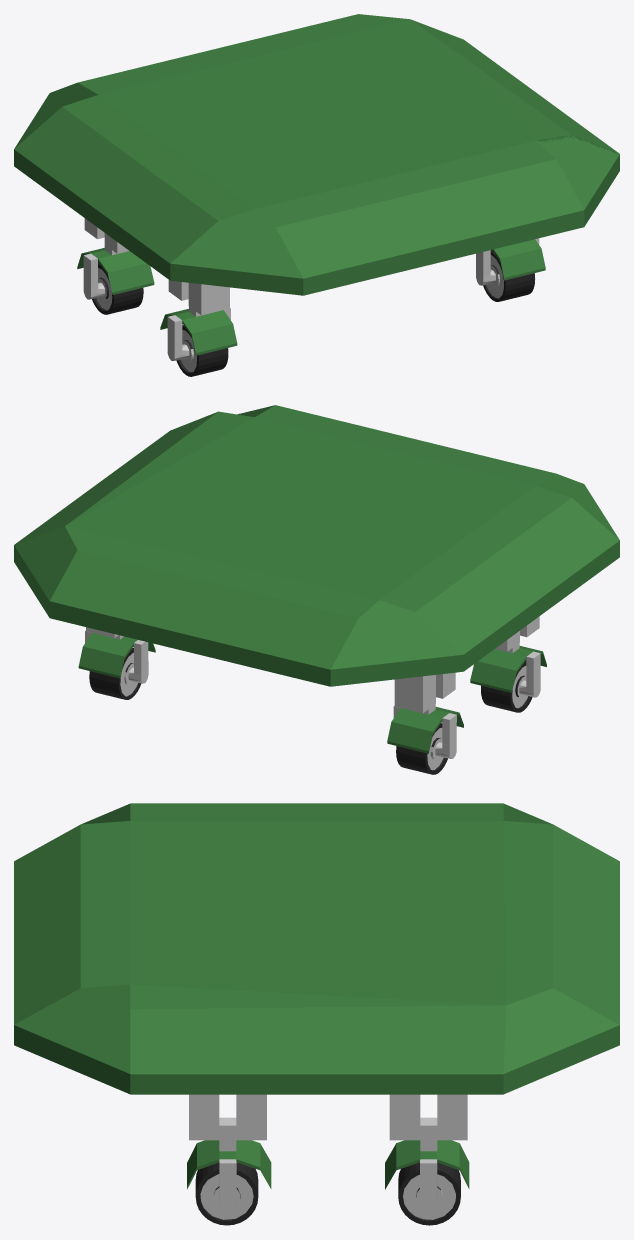
The model's file is agrobotFull 1.fbx.
3 renders of one model, top to bottom at view 1: azimuth 30°, elevation 25°; view 2: azimuth 150°, elevation 25°; view 3: azimuth 270°, elevation 25°, orthographic. The views are drawn at different scales.
Visible parts, largest first — view 1: roof, wheel holder, wheel, leg; view 2: roof, wheel holder, wheel, leg; view 3: roof, wheel holder, leg, wheel.
Part boxes in pixels (x1=…): roof: x1=14, y1=14, x2=619, y2=295; wheel holder: x1=77, y1=238, x2=545, y2=360; wheel: x1=92, y1=250, x2=534, y2=376; leg: x1=84, y1=218, x2=229, y2=315; roof: x1=14, y1=405, x2=619, y2=686; wheel holder: x1=78, y1=630, x2=546, y2=758; wheel: x1=89, y1=647, x2=532, y2=774; leg: x1=86, y1=616, x2=539, y2=713; roof: x1=14, y1=803, x2=619, y2=1094; wheel holder: x1=187, y1=1117, x2=469, y2=1212; leg: x1=189, y1=1094, x2=467, y2=1140; wheel: x1=195, y1=1162, x2=460, y2=1225.
Bounding box in the file's own units: 3054 × 1224 × 2984.
